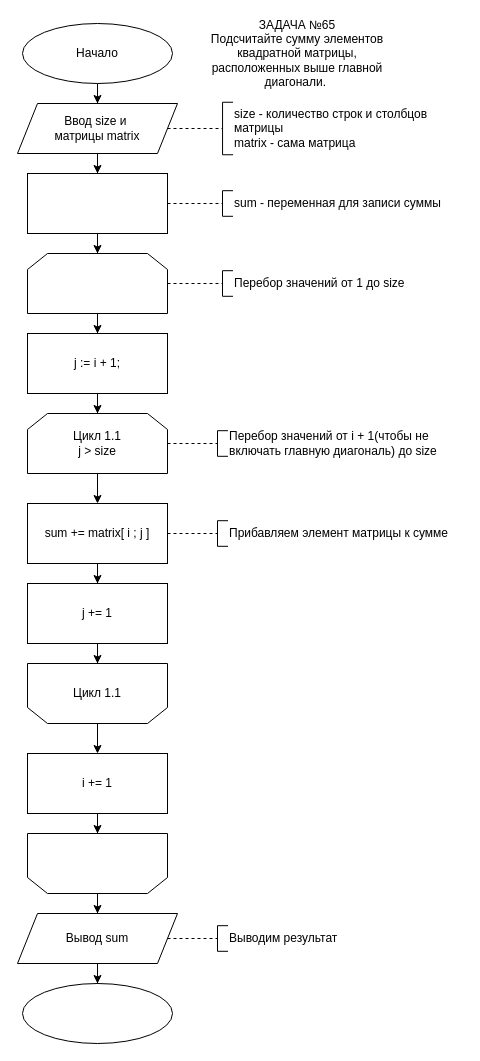
Some shapes in this 480 by 1061 pixel diagram are drawn without their labels. The box of each missing label's shape, as (x1, y1, x2, y2) in pixels:
sum := 0; i := 1;: (26, 172, 168, 234)
Конец: (22, 982, 172, 1044)
Цикл 1: (26, 832, 168, 894)
Цикл 1 i > size: (26, 252, 168, 314)
